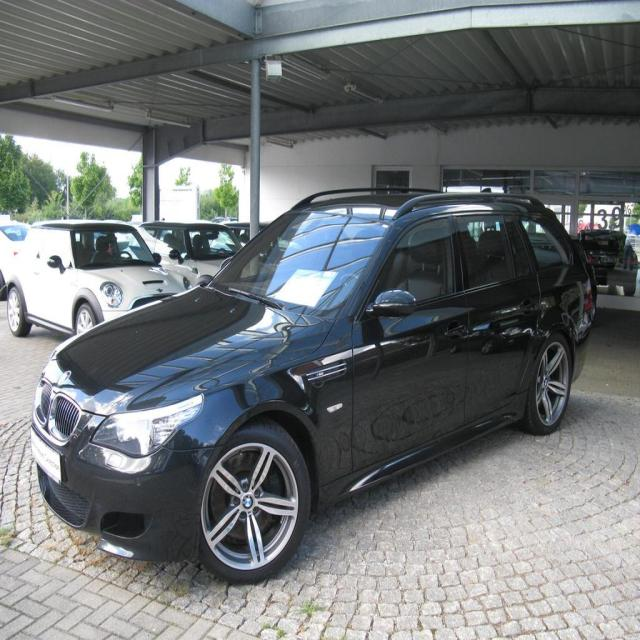car: (43, 187, 588, 594)
